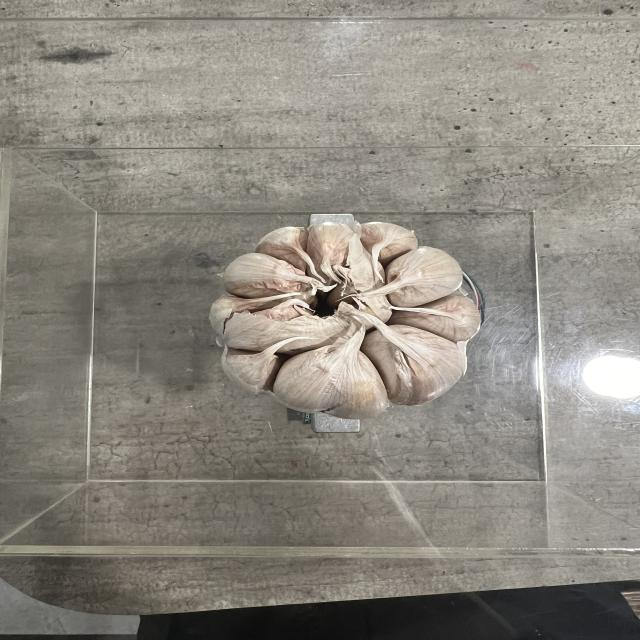garlic: (212, 223, 480, 412)
